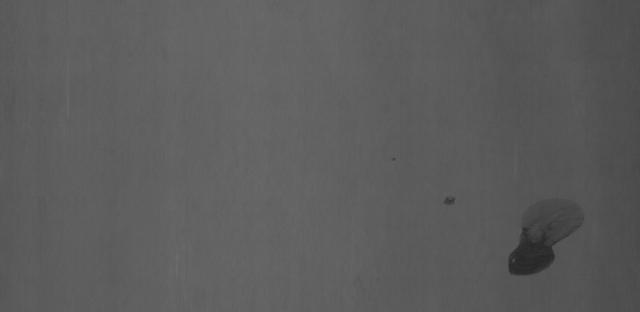oil_spot: (503, 192, 589, 281), (438, 191, 457, 210)
